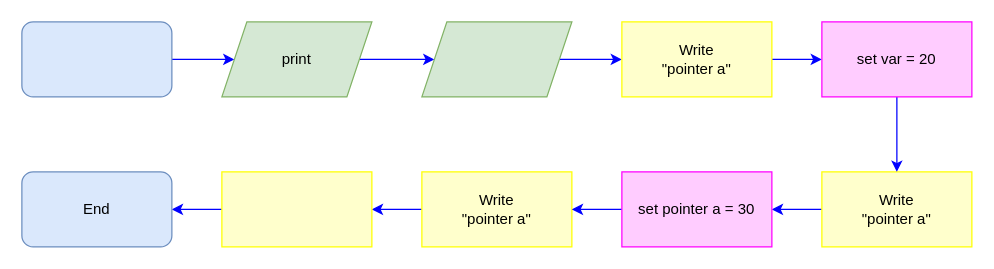
The diagram is 994 pixels wide and 269 high, and some of its shapes have lost their labels. The centre of each missing label's shape, as x and y in pixels:
pointer a = var: (x=496, y=59)
Start: (x=96, y=59)
Write "var": (x=296, y=209)
